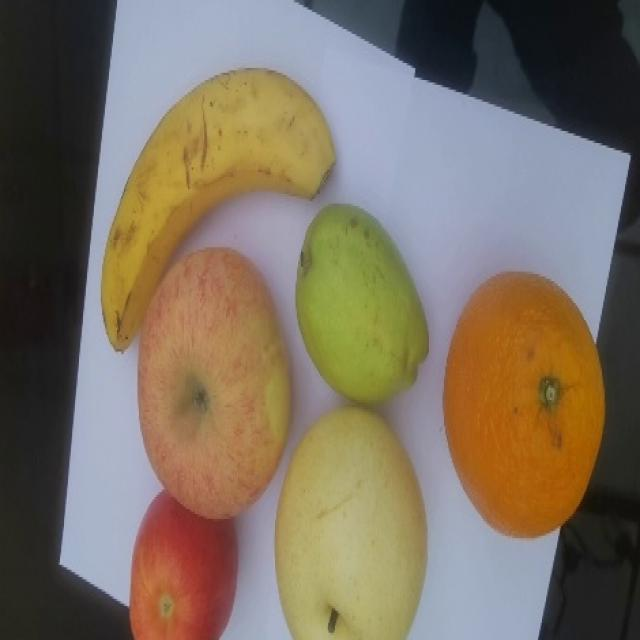Apple: (136, 246, 292, 520), (128, 489, 238, 639)
Banana: (100, 66, 336, 353)
Orange: (442, 269, 606, 538)
